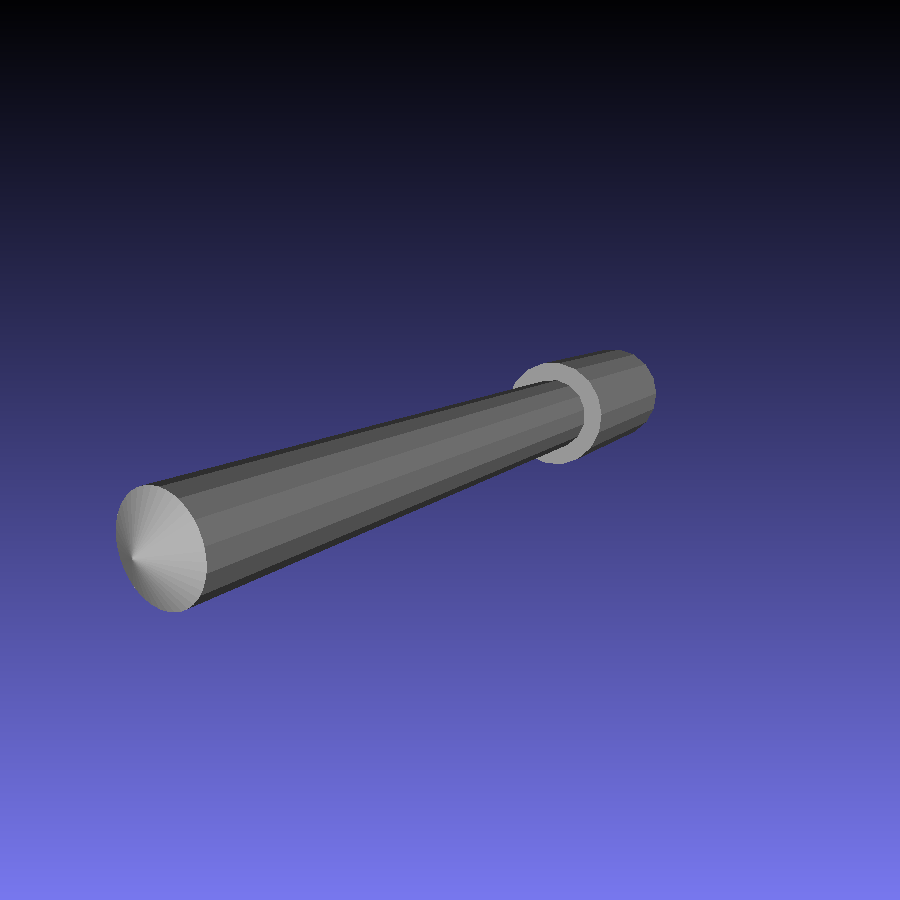cargo_g: (117, 348, 657, 613)
